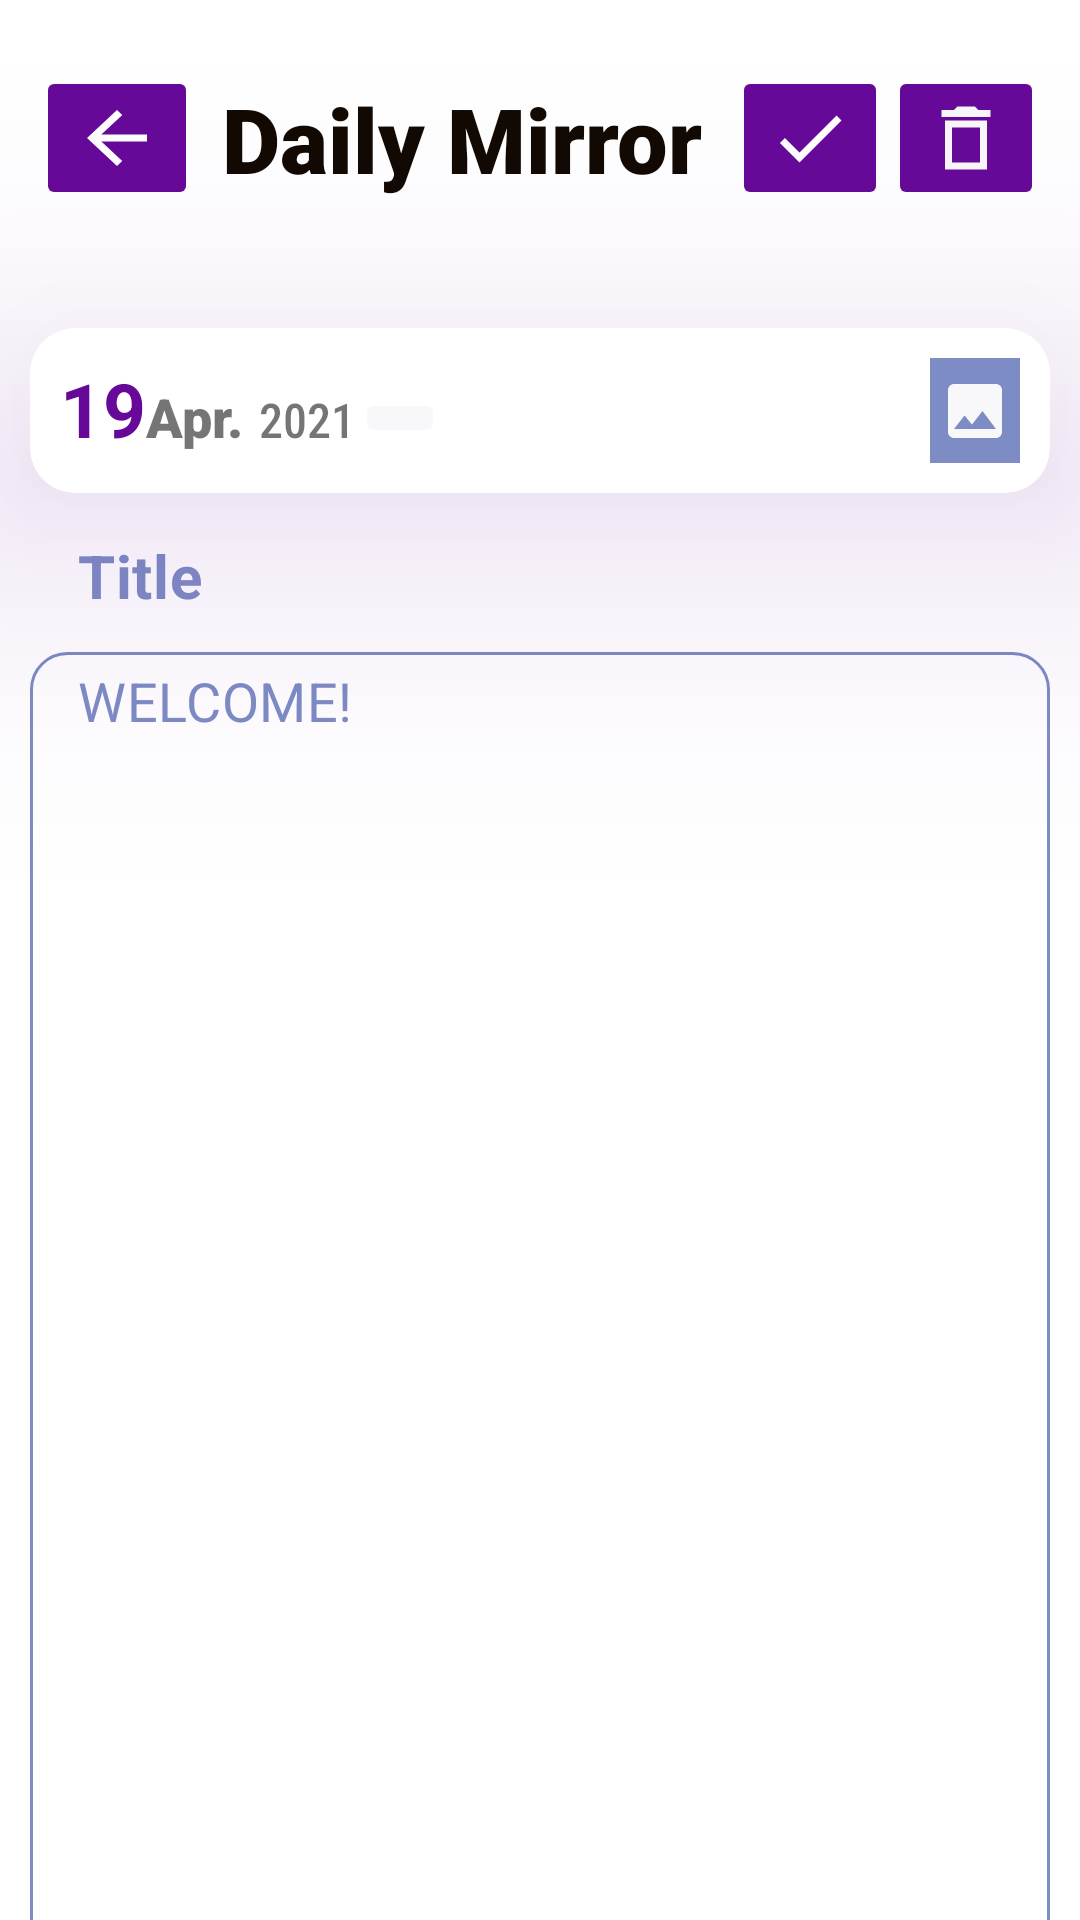

Icon click points for this 1080*1920 phone screenshot, format (x=x, y=y):
arrow back: (x=117, y=138)
check: (x=810, y=138)
delete: (x=966, y=138)
